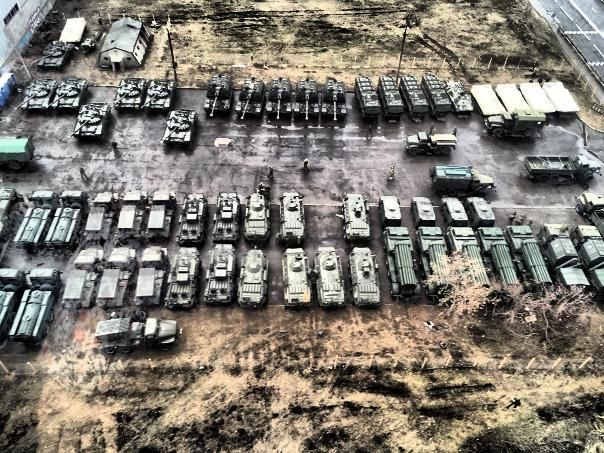military-vehicle: (10, 267, 61, 344), (448, 227, 490, 301), (95, 318, 181, 354), (382, 226, 421, 301), (477, 227, 518, 296), (418, 228, 454, 303), (13, 192, 57, 249), (63, 249, 104, 310), (46, 191, 88, 250), (98, 248, 136, 311), (134, 246, 169, 308), (166, 248, 202, 308), (525, 156, 601, 182), (205, 245, 236, 305), (281, 248, 311, 310), (429, 167, 493, 196), (316, 247, 345, 309), (238, 250, 267, 309), (85, 193, 119, 240), (117, 191, 149, 240), (348, 247, 377, 301), (177, 194, 207, 246), (69, 103, 110, 141), (487, 109, 545, 135), (147, 191, 177, 240), (212, 193, 239, 244), (16, 79, 55, 113), (279, 193, 305, 244), (235, 77, 265, 120), (47, 78, 88, 109), (342, 194, 369, 241), (162, 110, 197, 146), (405, 132, 457, 156), (31, 42, 75, 70), (244, 194, 269, 243), (203, 75, 232, 116), (400, 77, 429, 118), (423, 77, 451, 119), (354, 76, 380, 119), (293, 79, 318, 121), (266, 78, 291, 119), (379, 78, 404, 119), (113, 78, 145, 109), (142, 80, 175, 110), (322, 81, 346, 122), (447, 80, 473, 115), (440, 197, 468, 228), (467, 198, 493, 227), (411, 197, 435, 227), (379, 196, 401, 228)
